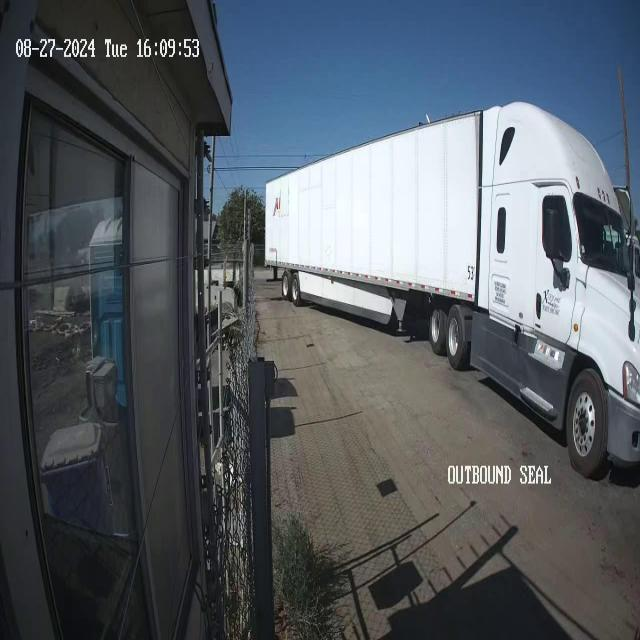CONTAINER: (263, 98, 485, 306)
